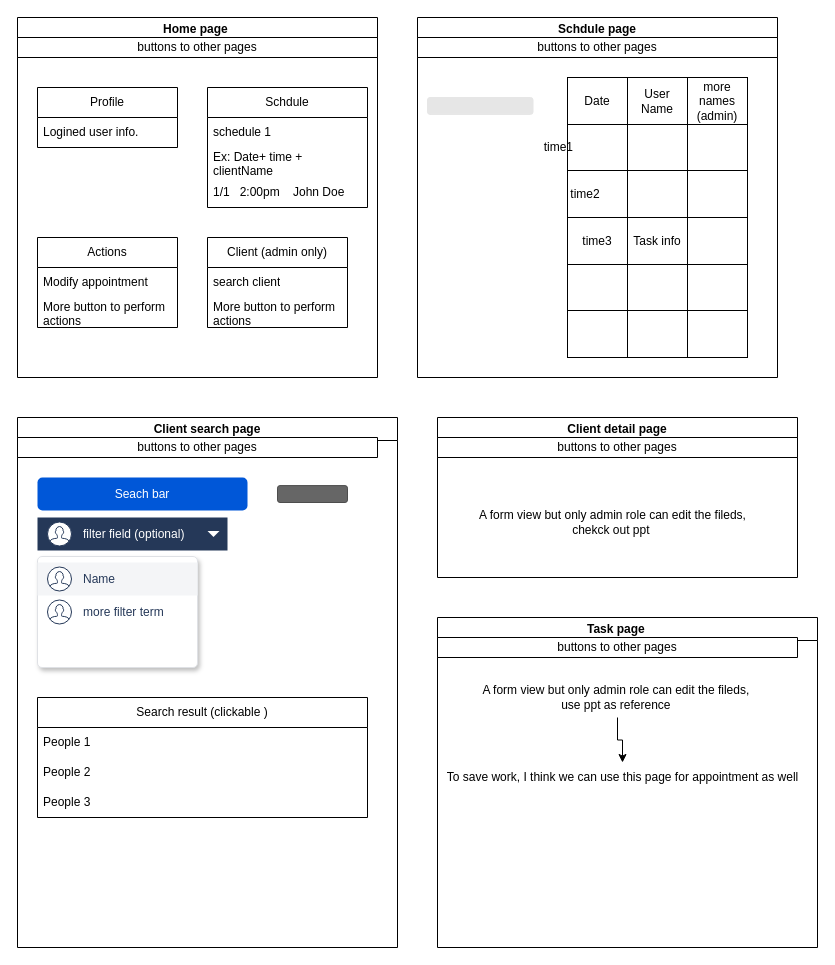
Some shapes in this 835 by 965 pixel diagram are drawn without their labels. The centre of each missing label's shape, as x and y in pixels:
"Choose date button" goes at [479,105].
"Submit button" goes at [312,493].
